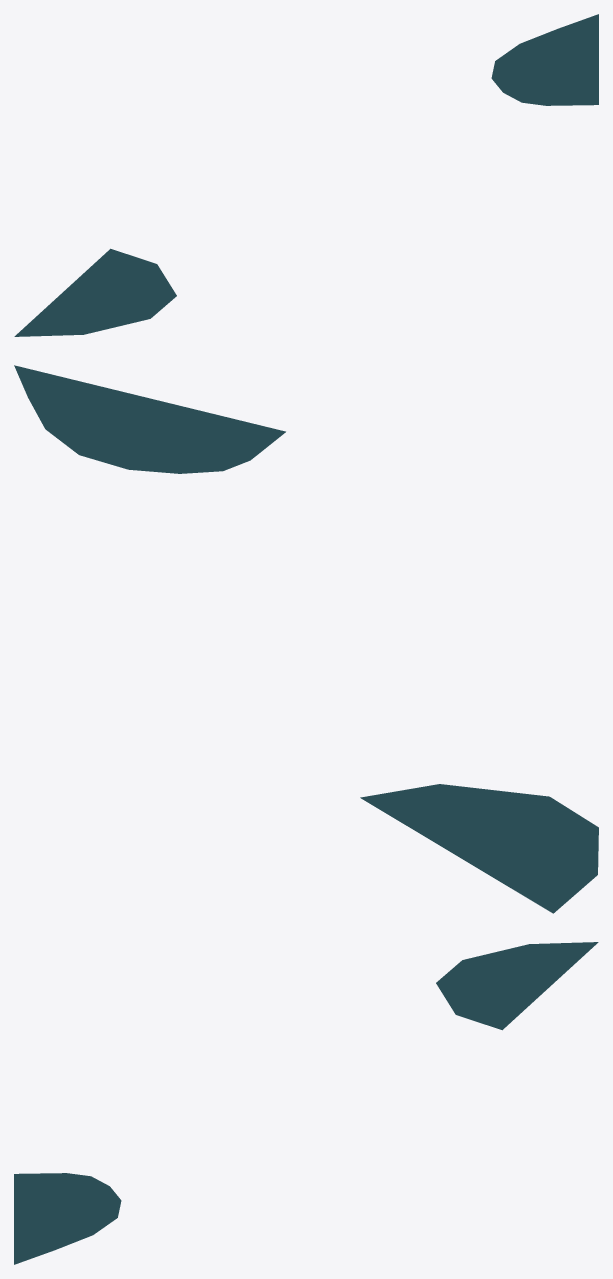
The model's file is SM_MPRE_Water_2_3.fbx.
3 renders of one model, top to bottom at view 1: azimuth 90°, elevation 25°; view 2: azimuth 150°, elevation 25°; view 3: azimuth 270°, elevation 25°, orthographic. The views are drawn at different scales.
Visible parts, largest first — view 1: SM_MPRE_Water_2_3; view 2: SM_MPRE_Water_2_3; view 3: SM_MPRE_Water_2_3.
Boxes of the visible parts, x1,y1,x2,y2 form: SM_MPRE_Water_2_3: (14,14,598,336); SM_MPRE_Water_2_3: (14,365,598,913); SM_MPRE_Water_2_3: (14,942,598,1264).
Size of the model in its own units: 10794 by 8262 by 0.
